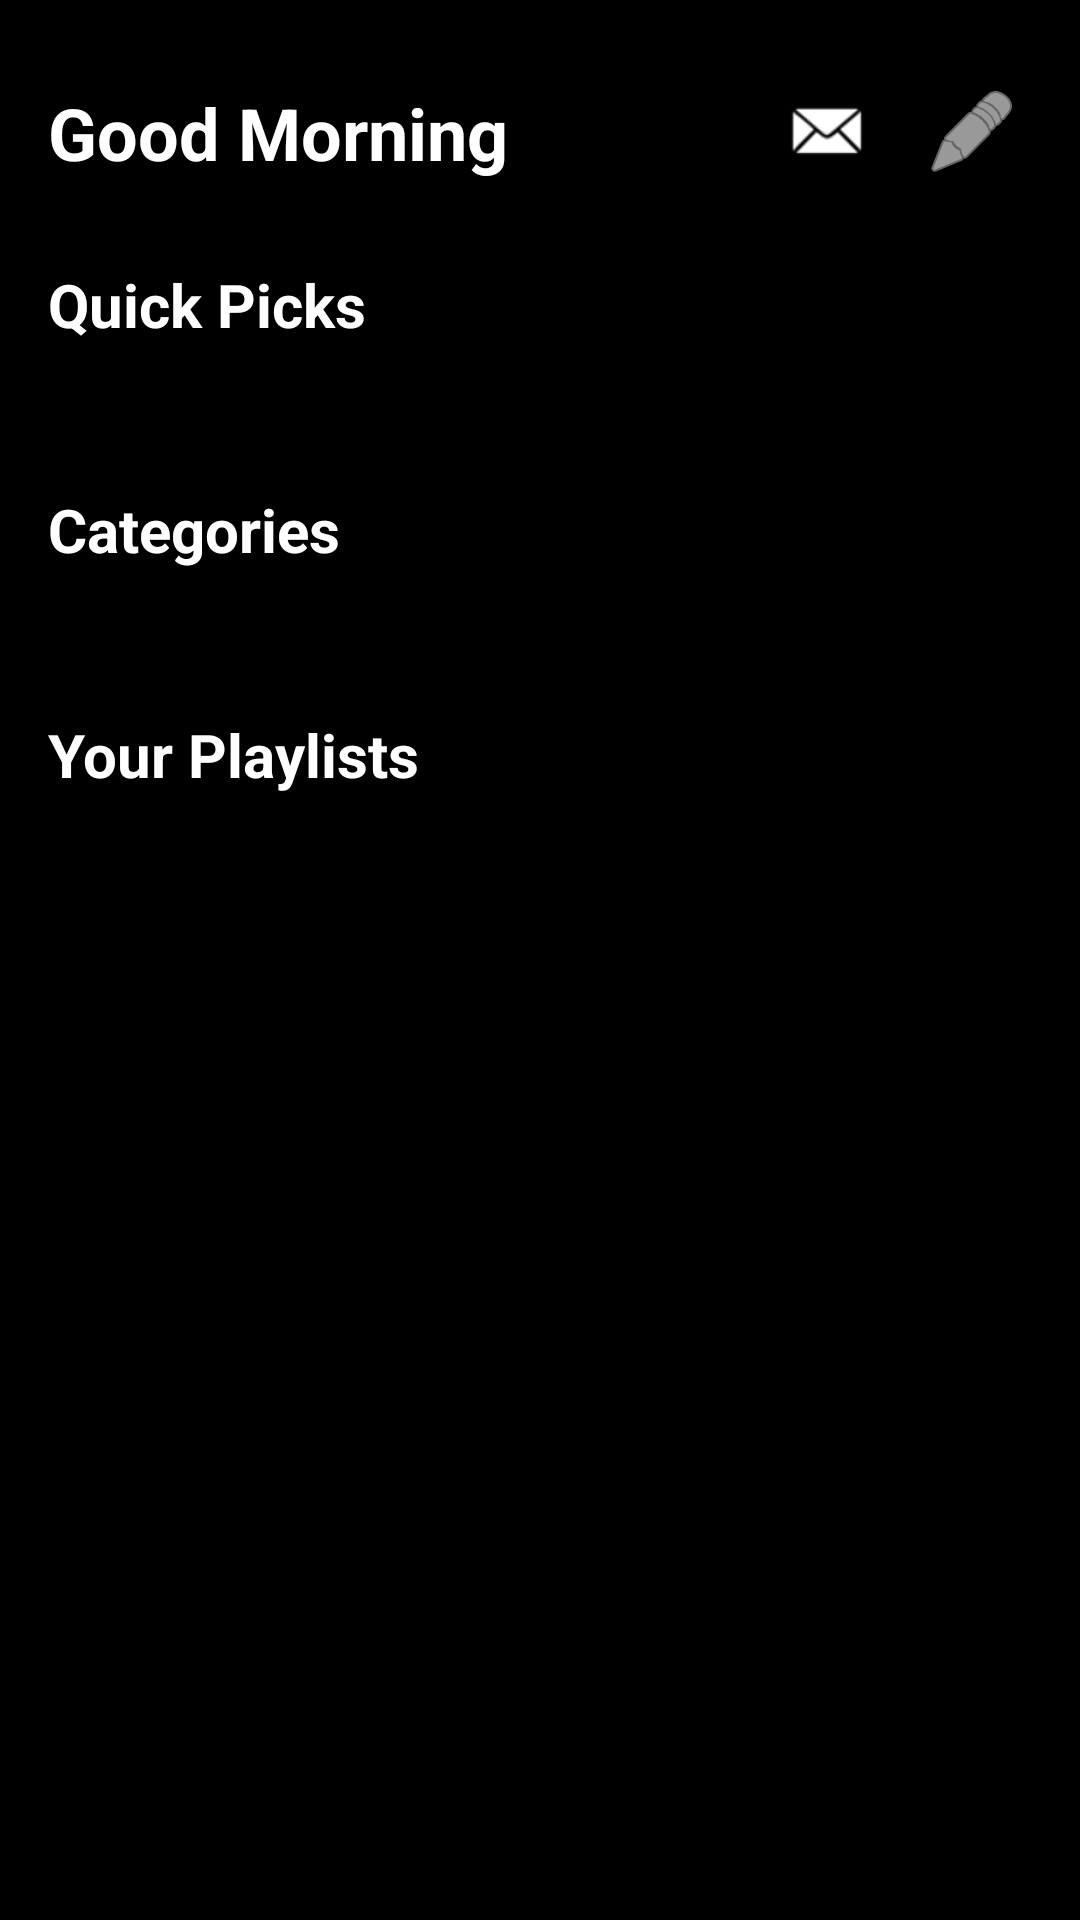

Named icons in this screenshot (1080*1920) and their bounding boxes, (x1=x1, y1=y1, x2=x2, y2=y2):
edit: (x1=931, y1=91, x2=1012, y2=172)
sym action email: (x1=792, y1=108, x2=862, y2=154)
